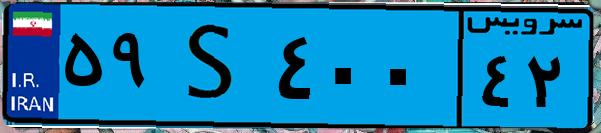0: (385, 28, 445, 110), (330, 28, 385, 110)
2: (525, 38, 570, 115)
4: (270, 28, 330, 110), (475, 38, 525, 113)
5: (57, 26, 110, 100)
9: (110, 28, 158, 98)
S: (158, 12, 270, 120)
